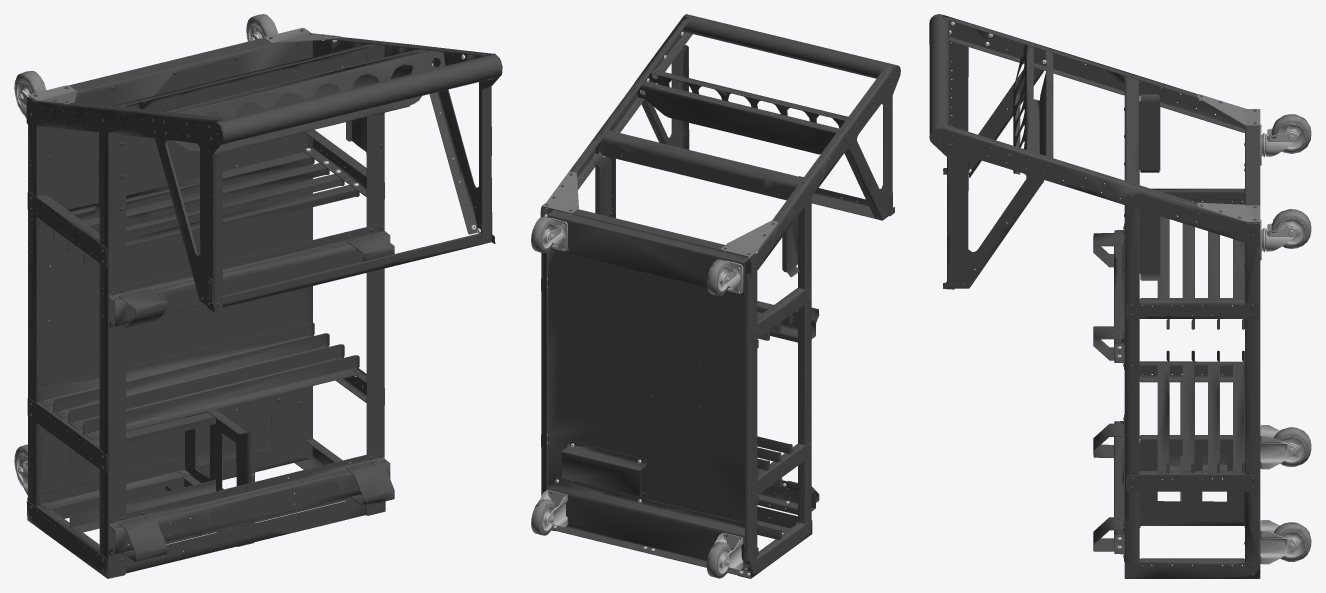
File: RoboCartV2.glb
3 views of the same model, side by side, from view 1: azimuth 30°, elevation 25°; view 2: azimuth 150°, elevation 25°; view 3: azimuth 270°, elevation 25° (orthographic). The views are drawn at different scales.
Visible parts, largest first — view 1: RobotCart; view 2: RobotCart; view 3: RobotCart.
Part boxes in pixels (x1,y1,x2,y2): RobotCart: (14,14,502,578); RobotCart: (531,14,900,578); RobotCart: (929,14,1311,578).
Size of the model in its own units: 69.34 by 126 by 96.72.
1 material, 1 textured.
